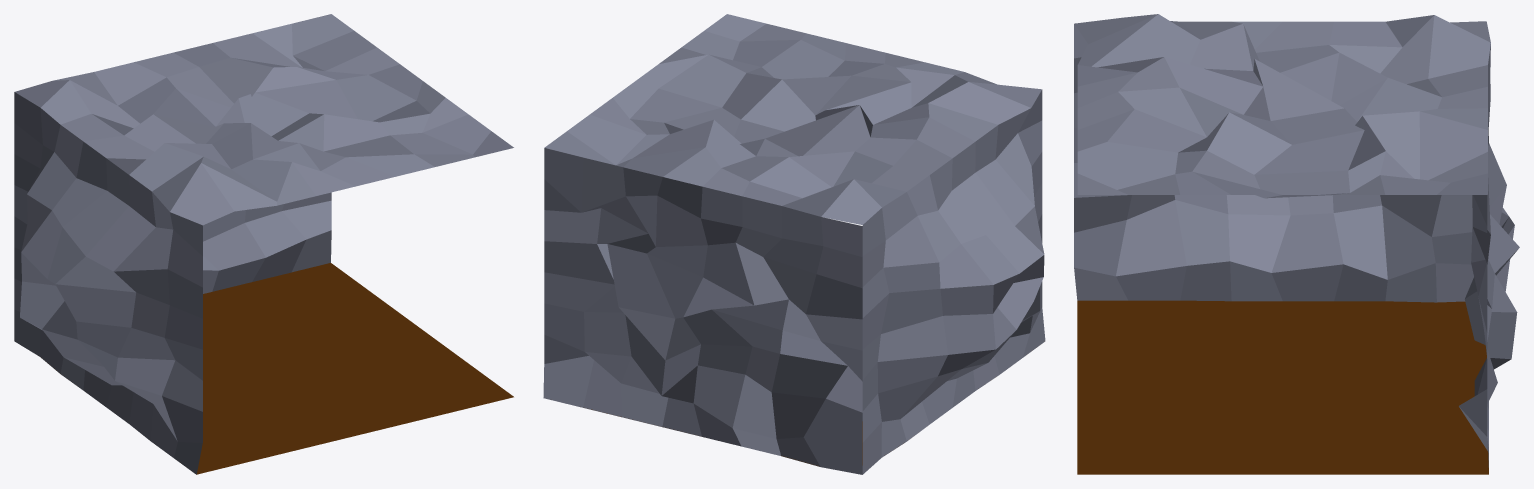
File: Cave_TurnLeft.fbx
3 renders of one model, left to right at view 1: azimuth 30°, elevation 25°; view 2: azimuth 150°, elevation 25°; view 3: azimuth 270°, elevation 25°, orthographic. The views are drawn at different scales.
Parts seen in each view (by area): view 1: Plane, Plane.004, Plane.002, Plane.003; view 2: Plane.003, Plane, Plane.004; view 3: Plane, Plane.002, Plane.004, Plane.003.
Boxes of the visible parts, <box> form: Plane: <box>15,14,513,225</box>; Plane.004: <box>14,92,202,474</box>; Plane.002: <box>54,263,513,474</box>; Plane.003: <box>203,14,331,293</box>; Plane.003: <box>543,148,862,474</box>; Plane: <box>544,14,1041,224</box>; Plane.004: <box>862,89,1045,474</box>; Plane: <box>1074,14,1490,198</box>; Plane.002: <box>1077,300,1488,474</box>; Plane.004: <box>1074,24,1473,302</box>; Plane.003: <box>1459,44,1519,467</box>.
Size of the model in its own units: 1960 by 1331 by 1739.
